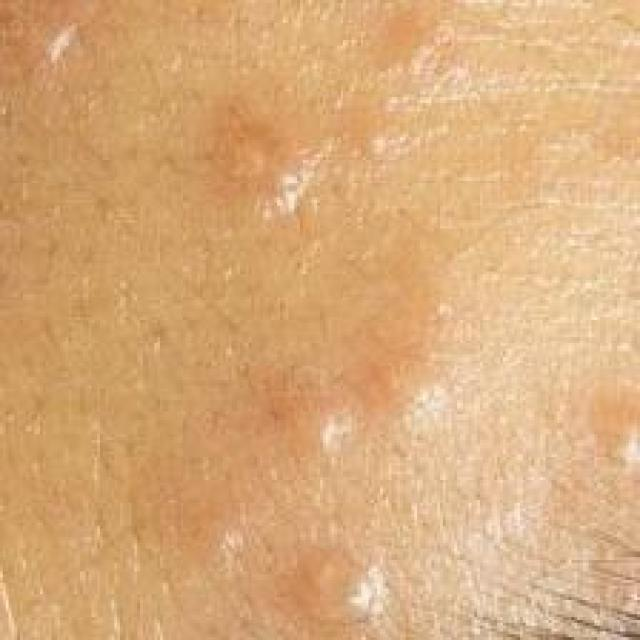others: (14, 29, 622, 632)
